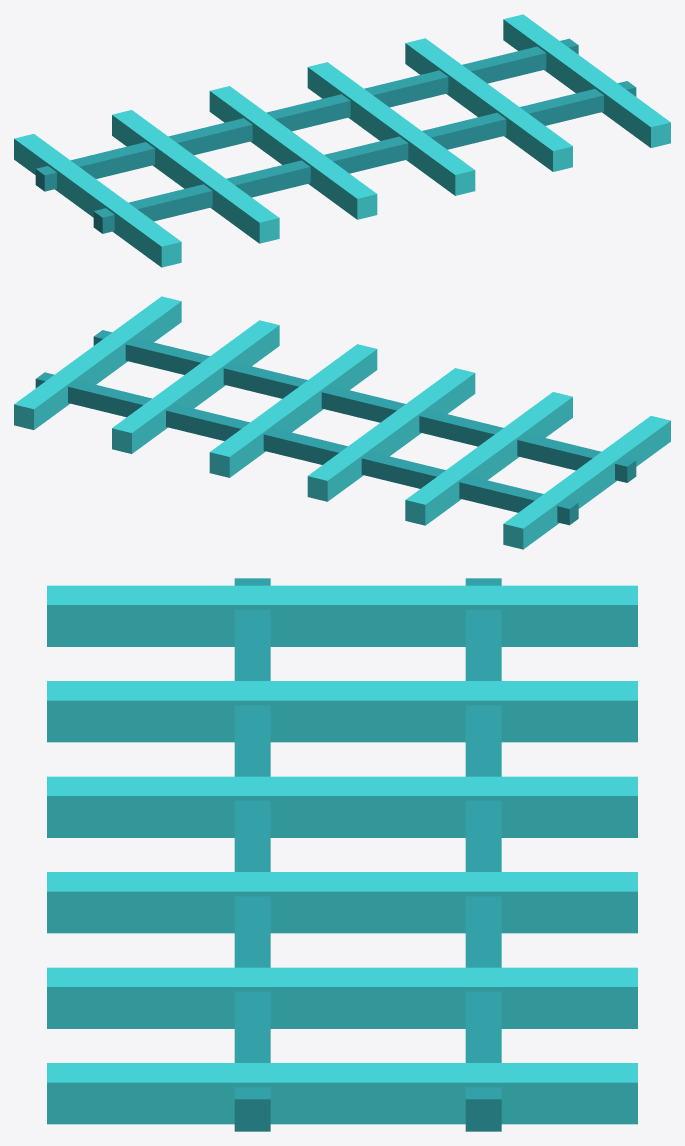
The model's file is fence-panel.glb.
3 renders of one model, top to bottom at view 1: azimuth 30°, elevation 25°; view 2: azimuth 150°, elevation 25°; view 3: azimuth 270°, elevation 25°, orthographic. The views are drawn at different scales.
Parts seen in each view (by area): view 1: world; view 2: world; view 3: world.
Boxes of the visible parts, left/top/right/bottom form: world: left=14, top=14, right=670, bottom=267; world: left=14, top=296, right=670, bottom=549; world: left=47, top=578, right=637, bottom=1131.
Bounding box in the file's own units: 2.4 × 0.09 × 1.15.
